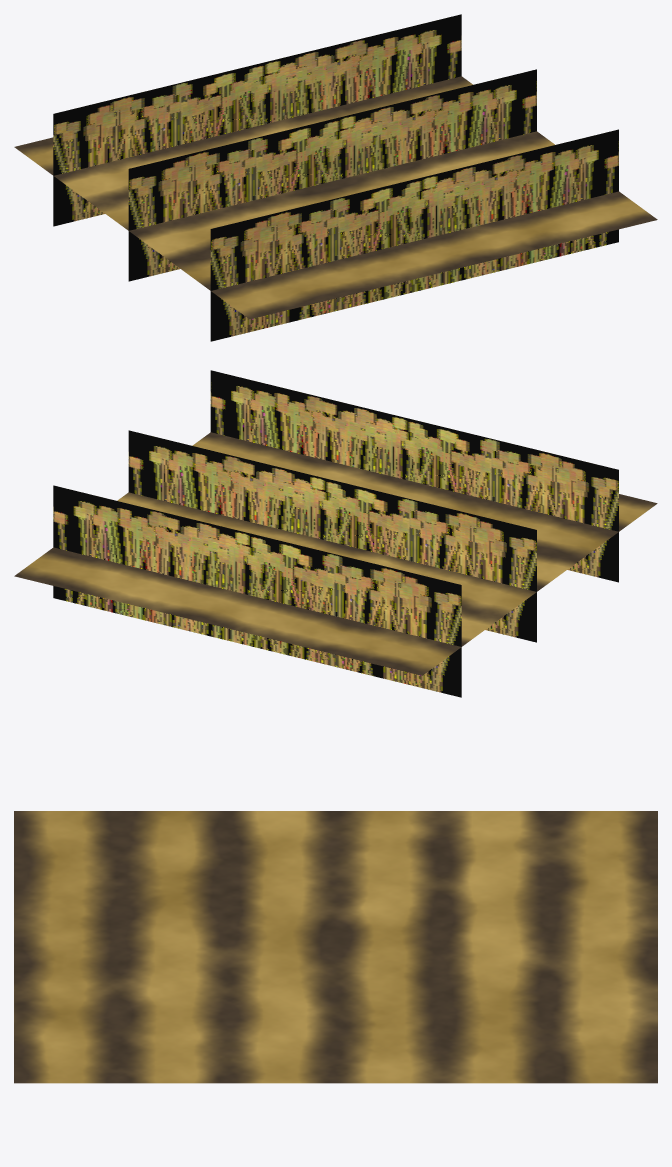
Rendered from Crop_Wheat_1_LOD1.gltf.
3 renders of one model, top to bottom at view 1: azimuth 30°, elevation 25°; view 2: azimuth 150°, elevation 25°; view 3: azimuth 270°, elevation 25°, orthographic. The views are drawn at different scales.
Visible parts, largest first — view 1: Crop_Wheat_1_LOD1; view 2: Crop_Wheat_1_LOD1; view 3: Crop_Wheat_1_LOD1.
Boxes of the visible parts, box(x1,y1,x2,y2) form: Crop_Wheat_1_LOD1: box(14, 14, 657, 341); Crop_Wheat_1_LOD1: box(14, 370, 657, 697); Crop_Wheat_1_LOD1: box(14, 811, 657, 1083).
Size of the model in its own units: 4 by 1.06 by 4.
Materials: 2 (2 with a texture image).
